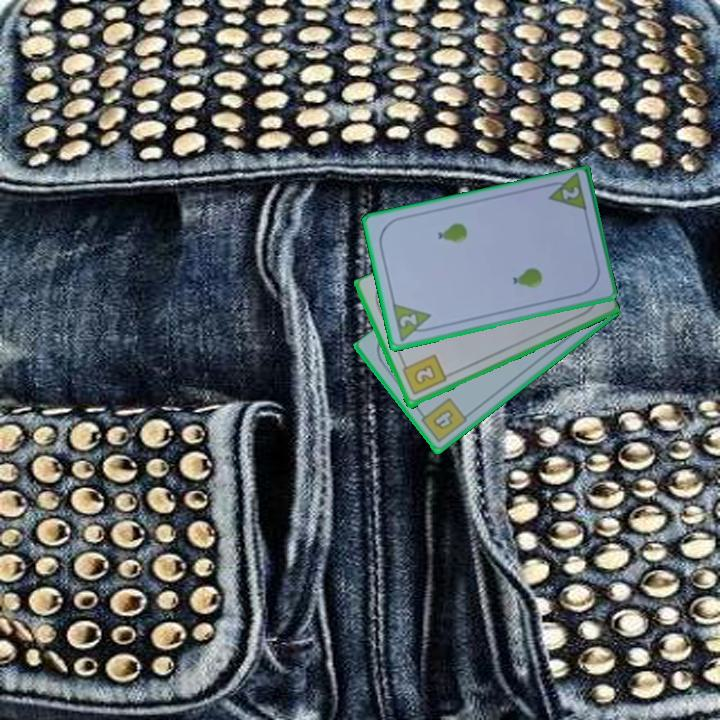2b: (398, 351, 449, 398)
2p: (388, 300, 436, 345), (558, 183, 582, 203)
4b: (415, 394, 470, 446)
